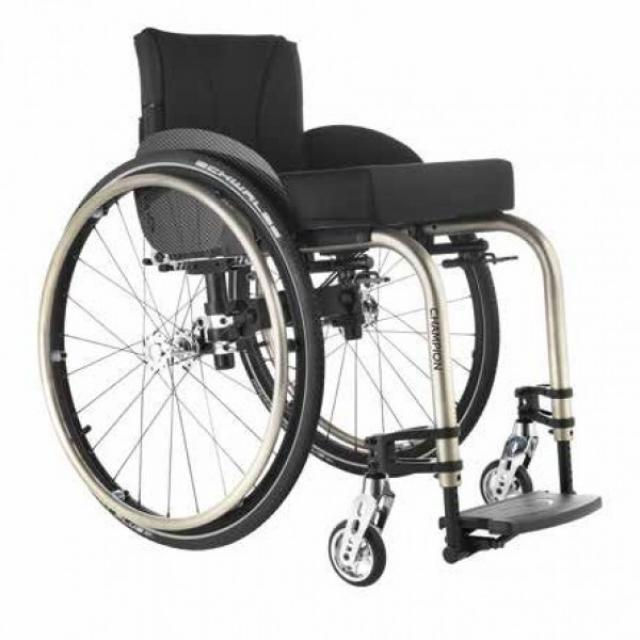wheelchair: (28, 16, 606, 593)
